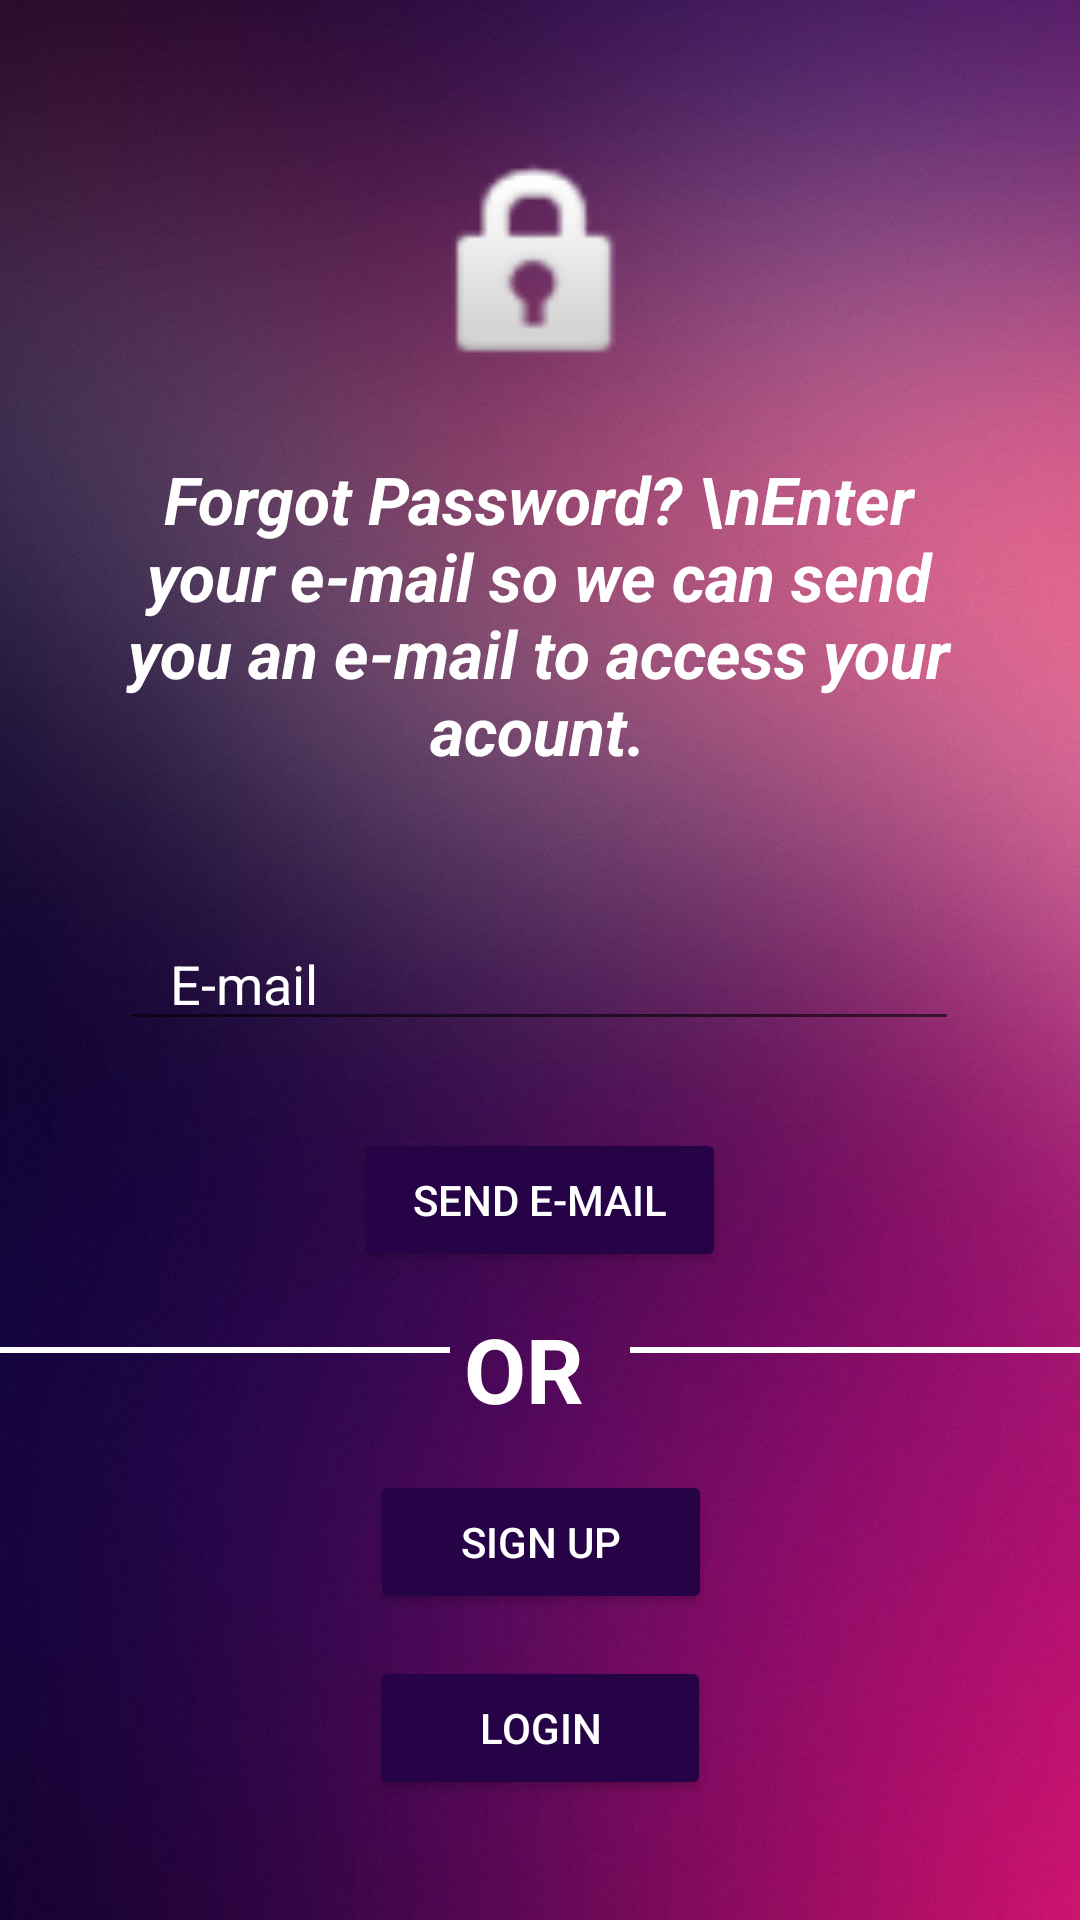

Where to tap for icons on this 1080*1920 app screen, as point (x, y):
lock idle: point (540, 267)
